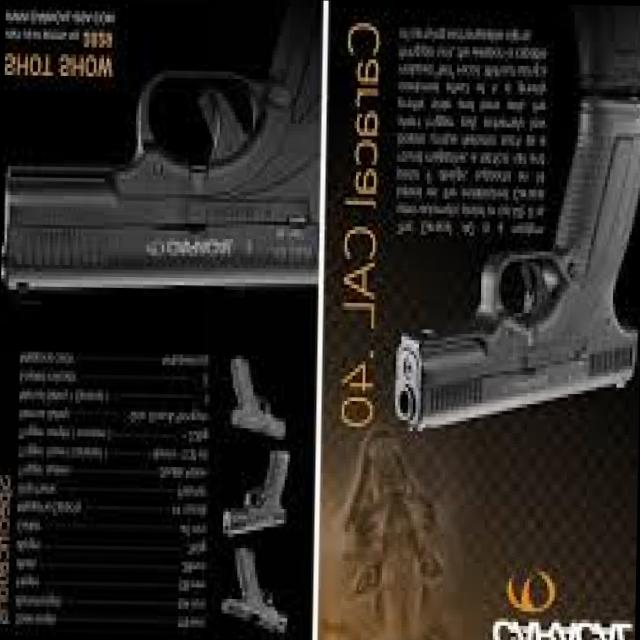Gun: (0, 0, 317, 301), (394, 77, 640, 445)
